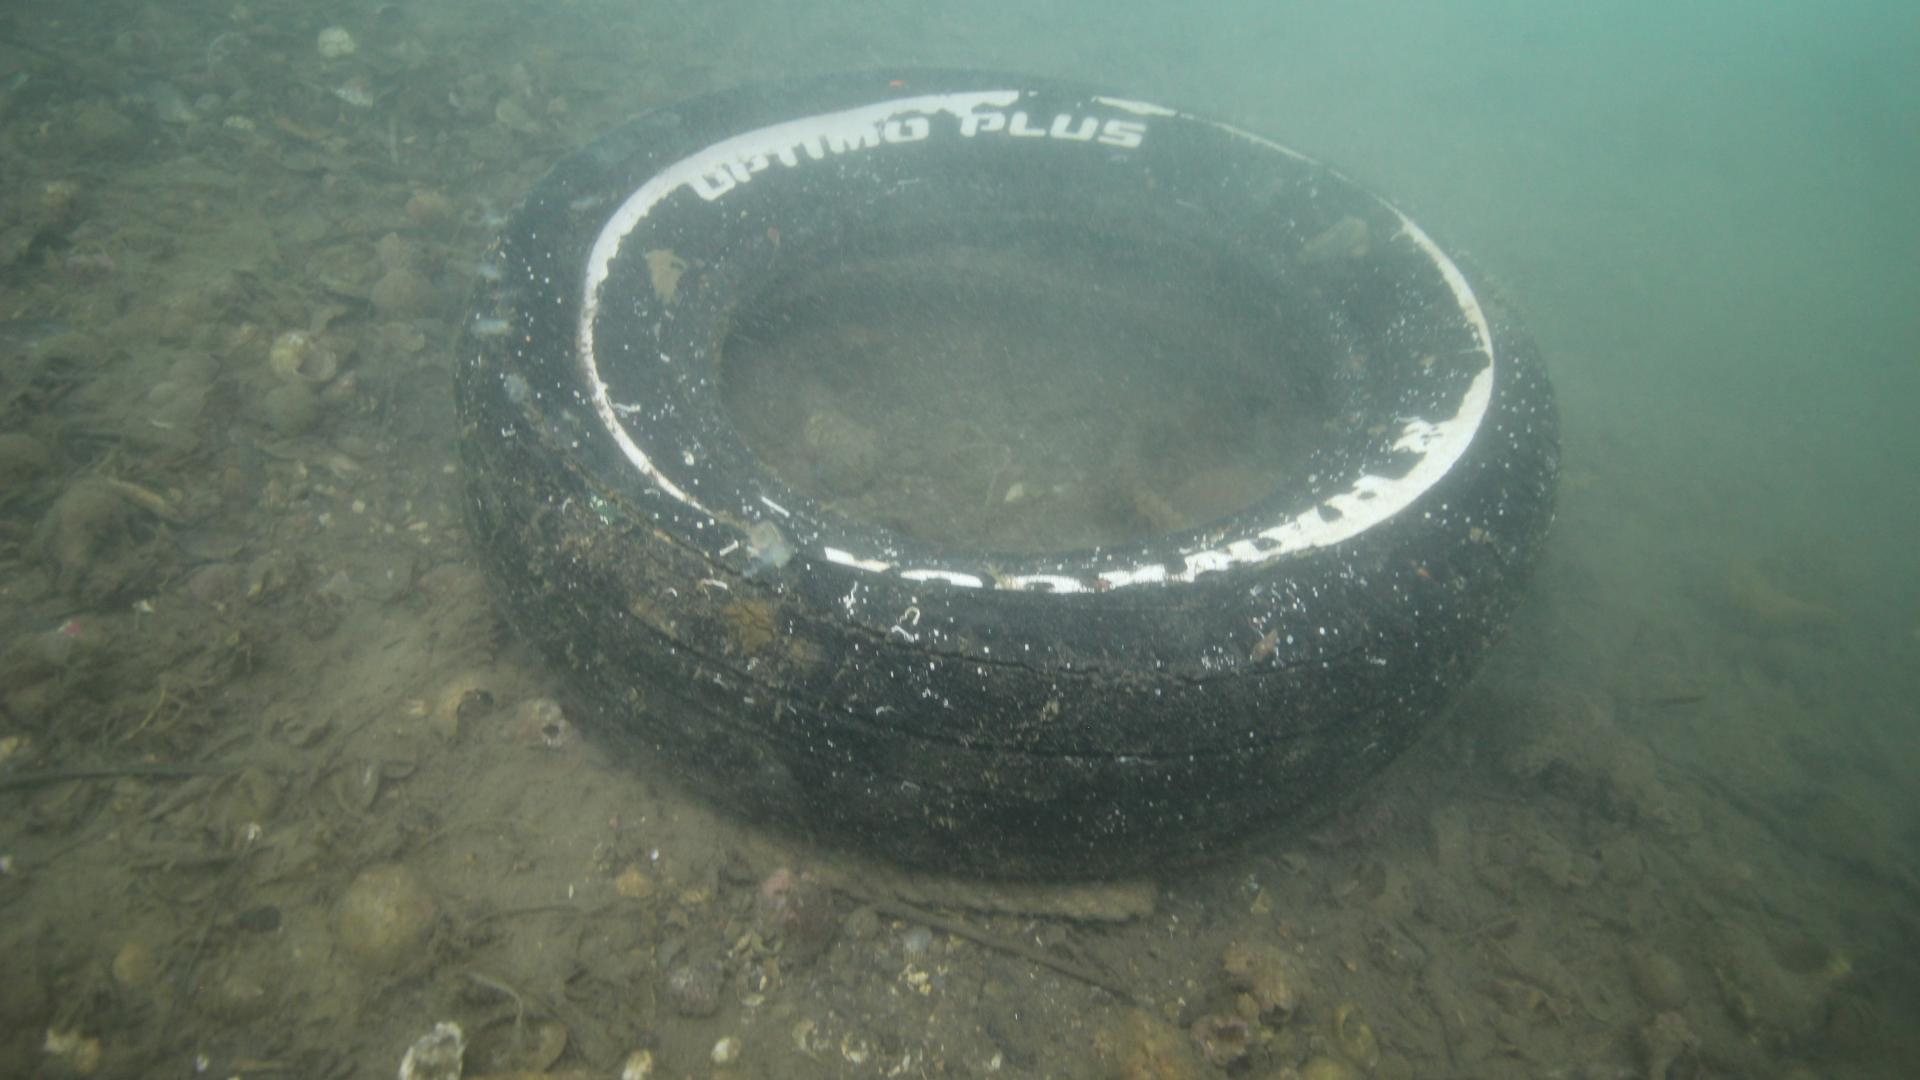tire: (450, 65, 1559, 878)
